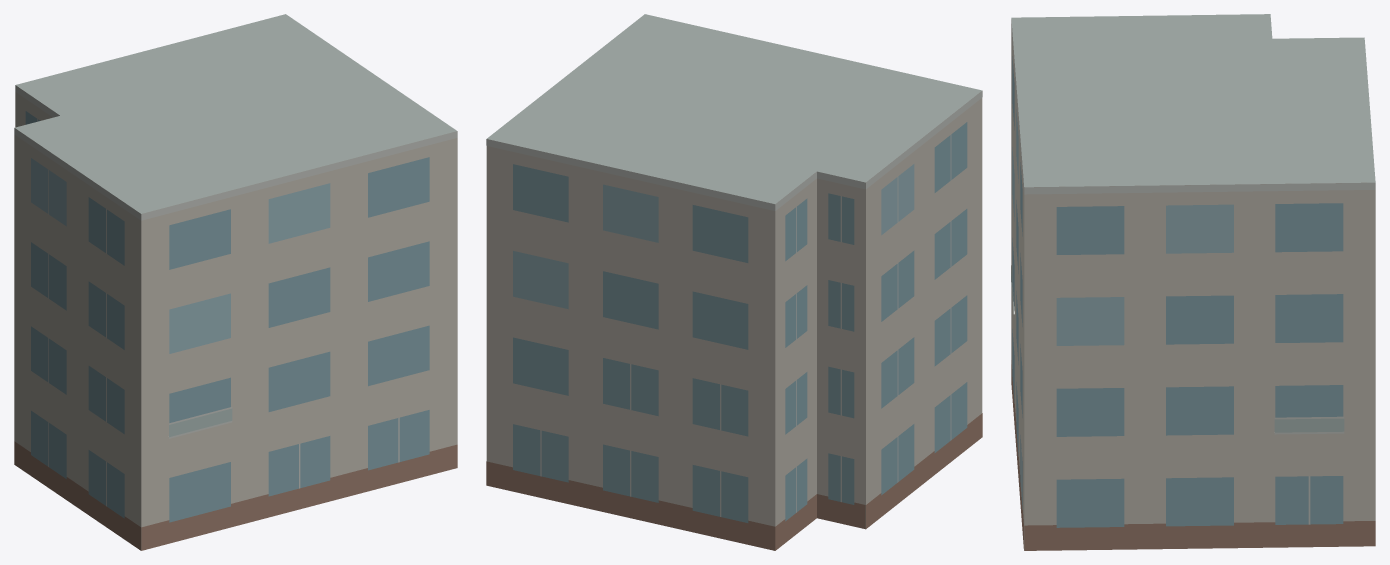
Rendered from residential-f87a529e-a342-4fd5-8b97-ce18301a32c1.glb.
3 views of the same model, side by side, from view 1: azimuth 30°, elevation 25°; view 2: azimuth 150°, elevation 25°; view 3: azimuth 270°, elevation 25° (orthographic). The views are drawn at different scales.
Parts seen in each view (by area): view 1: residential-f87a529e-a342-4fd5-8b97-ce18301a32c1.tmp; view 2: residential-f87a529e-a342-4fd5-8b97-ce18301a32c1.tmp; view 3: residential-f87a529e-a342-4fd5-8b97-ce18301a32c1.tmp.
Part boxes in pixels (<box>): residential-f87a529e-a342-4fd5-8b97-ce18301a32c1.tmp: <box>14,14,457,550</box>; residential-f87a529e-a342-4fd5-8b97-ce18301a32c1.tmp: <box>486,14,982,550</box>; residential-f87a529e-a342-4fd5-8b97-ce18301a32c1.tmp: <box>1011,14,1375,550</box>.
Bounding box in the file's own units: 12.47 × 12.2 × 11.09.
